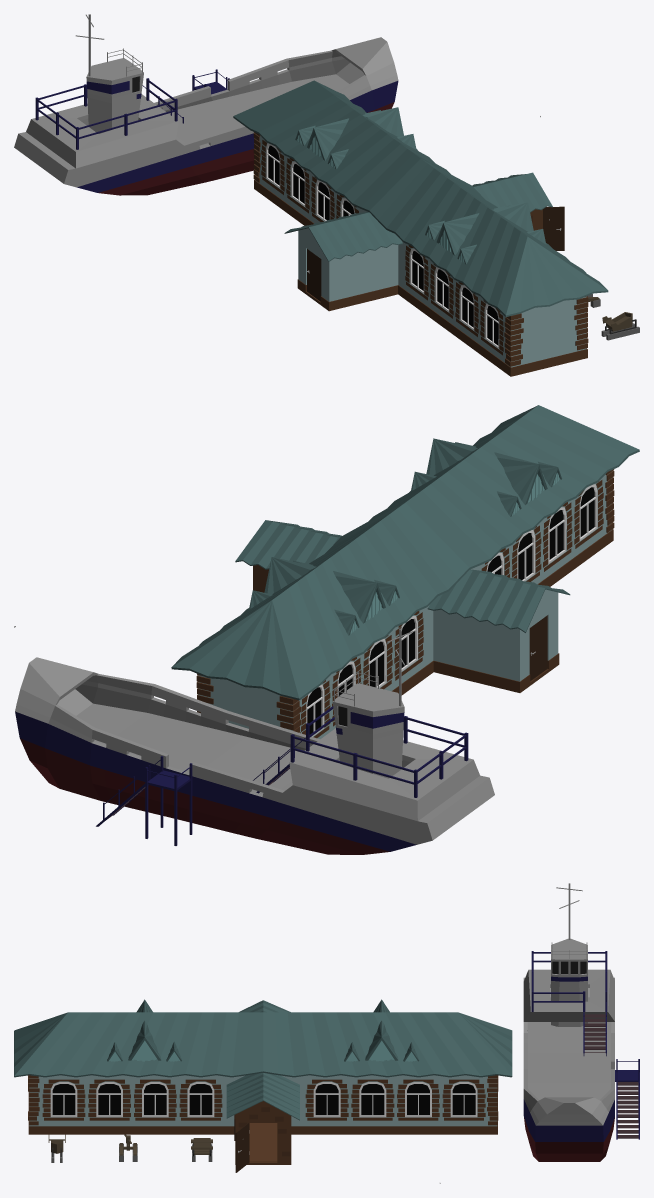
Rendered from museum pochtifinal.fbx.
The picture shows the model from 3 angles, top to bottom: view 1: azimuth 30°, elevation 25°; view 2: azimuth 150°, elevation 25°; view 3: azimuth 270°, elevation 25°; orthographic projection. The views are drawn at different scales.
Visible parts, largest first — view 1: Cube.001; view 2: Cube.001; view 3: Cube.001.
Boxes of the visible parts, x1,y1,x2,y2 form: Cube.001: (14, 14, 639, 376); Cube.001: (14, 405, 639, 854); Cube.001: (14, 883, 639, 1183).
Bounding box in the file's own units: 2026 × 809 × 2788.
